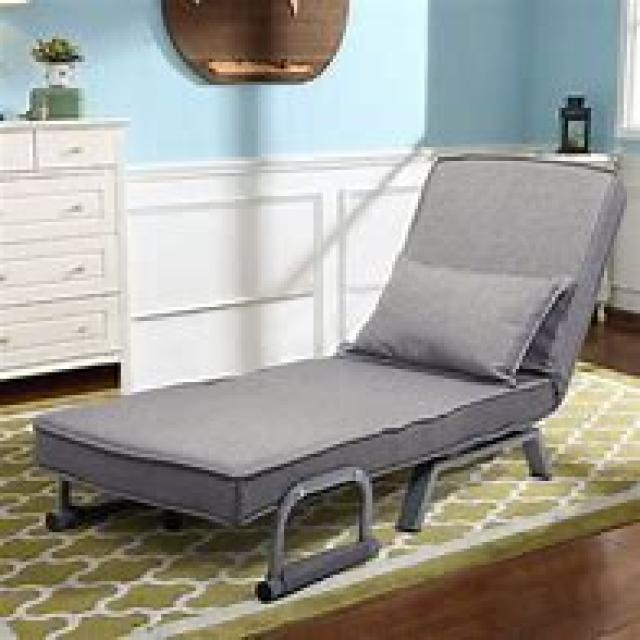chair: (29, 147, 627, 601)
